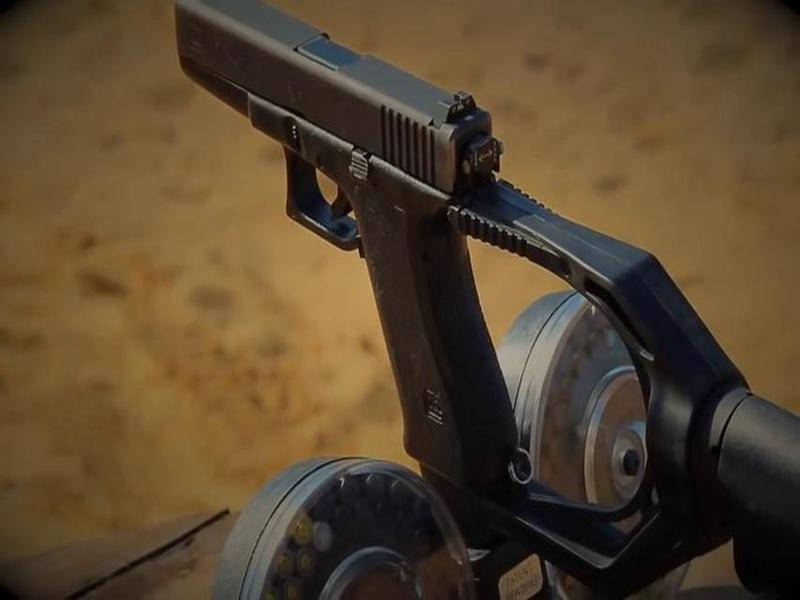Pistola: (139, 1, 555, 469)
